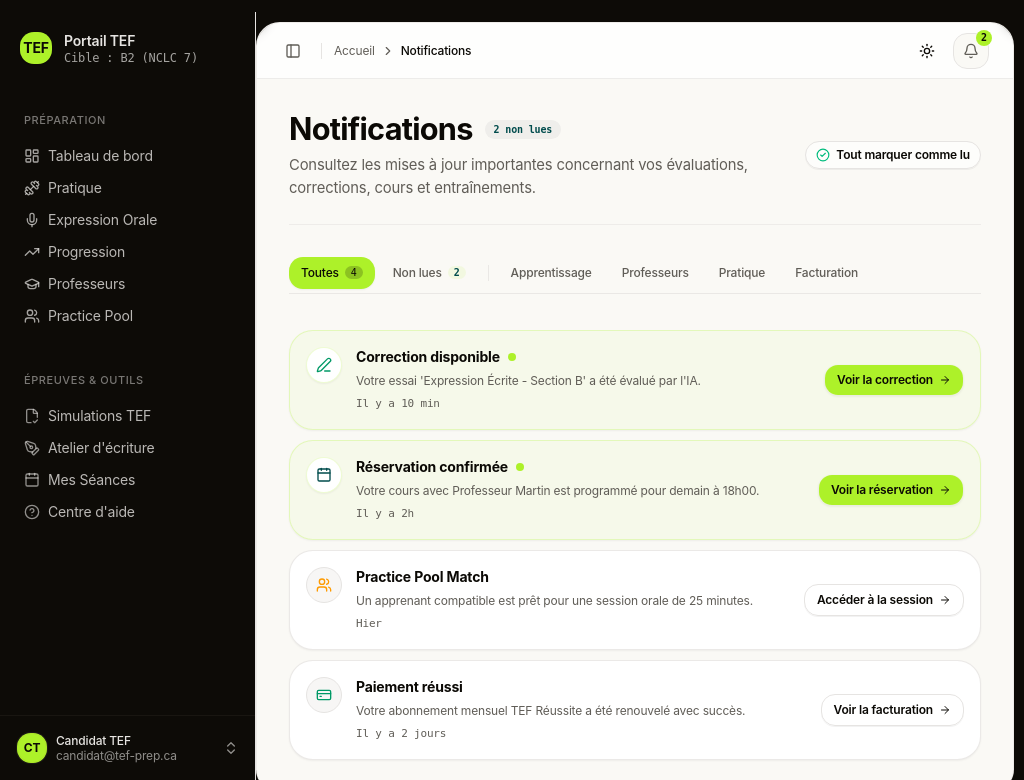
Scenario: Notification Center Experience (/notifications) › filters notifications by 'Non lues' tab
Expected: the heading "Correction disponible" is shown, [356, 347, 500, 367]
What coordinates should you click on to do the following:
click the button "Non lues 2"
I would click on:
 (429, 273)
Its box is [381, 257, 478, 289].
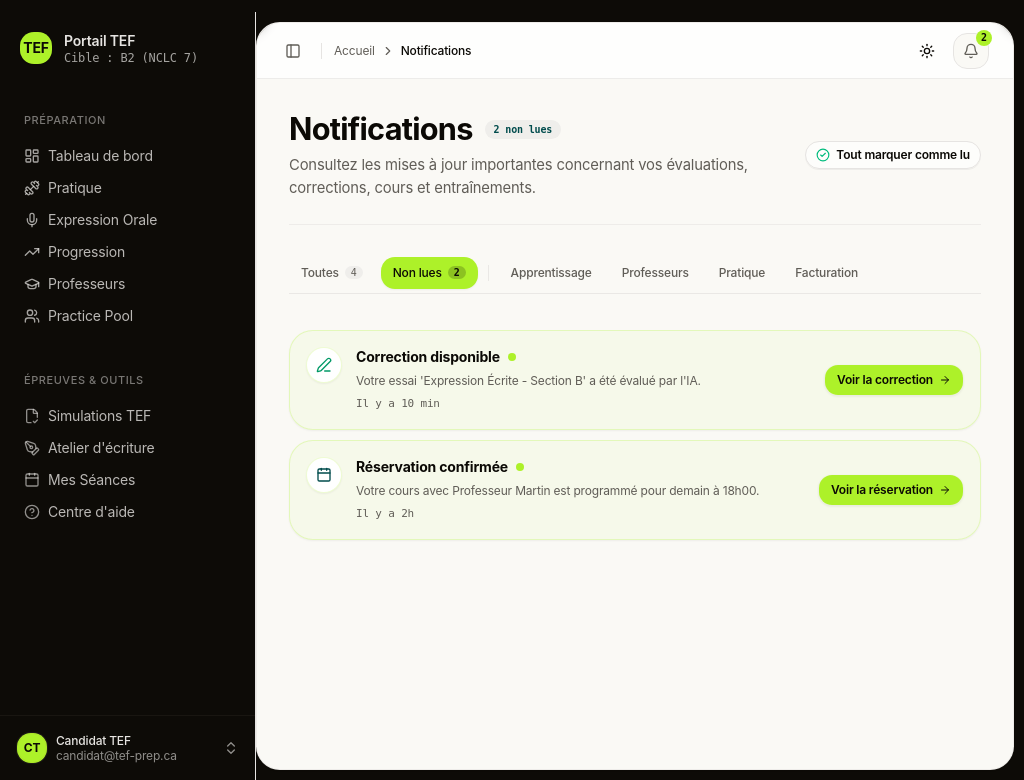
Expected: the heading "Correction disponible" is shown, [356, 347, 500, 367]
Result: the heading "Practice Pool Match" is gone
Result: the heading "Paiement réussi" is gone
